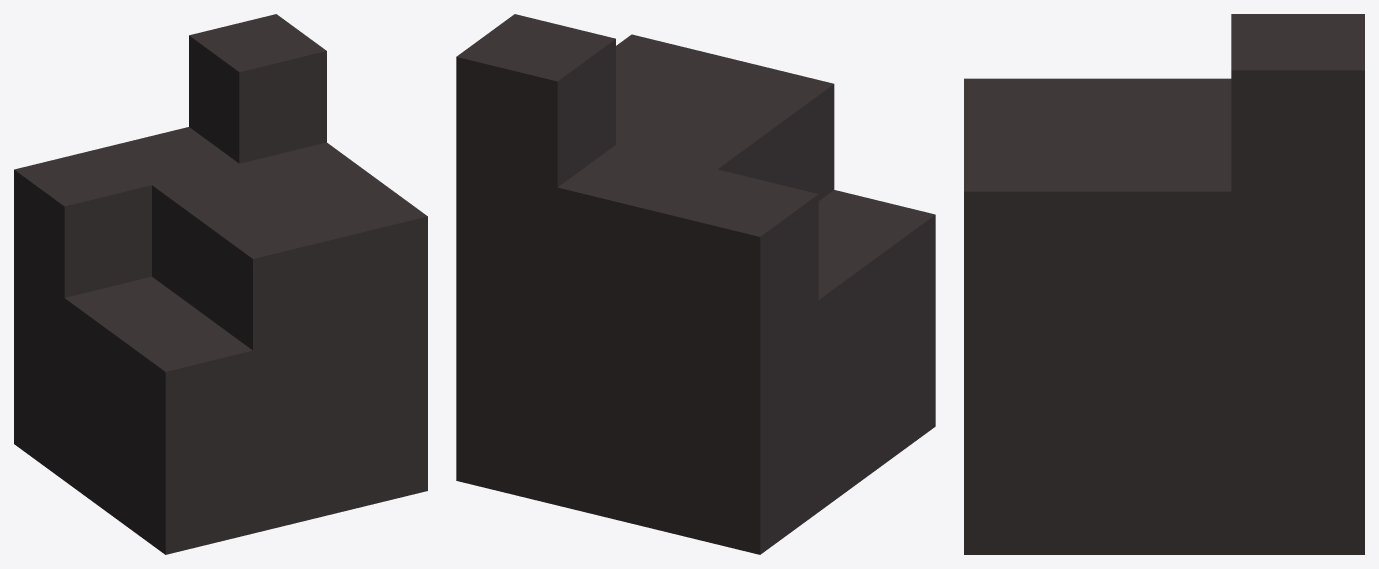
File: badger__leg_bl.glb
3 renders of one model, left to right at view 1: azimuth 30°, elevation 25°; view 2: azimuth 150°, elevation 25°; view 3: azimuth 270°, elevation 25°, orthographic. The views are drawn at different scales.
Parts seen in each view (by area): view 1: badger__leg_bl; view 2: badger__leg_bl; view 3: badger__leg_bl.
Part boxes in pixels (bbox=[...]): badger__leg_bl: bbox=[14, 14, 427, 554]; badger__leg_bl: bbox=[456, 14, 935, 554]; badger__leg_bl: bbox=[964, 14, 1364, 554].
Size of the model in its own units: 0.3 by 0.4 by 0.3.
Materials: 1 (1 with a texture image).
